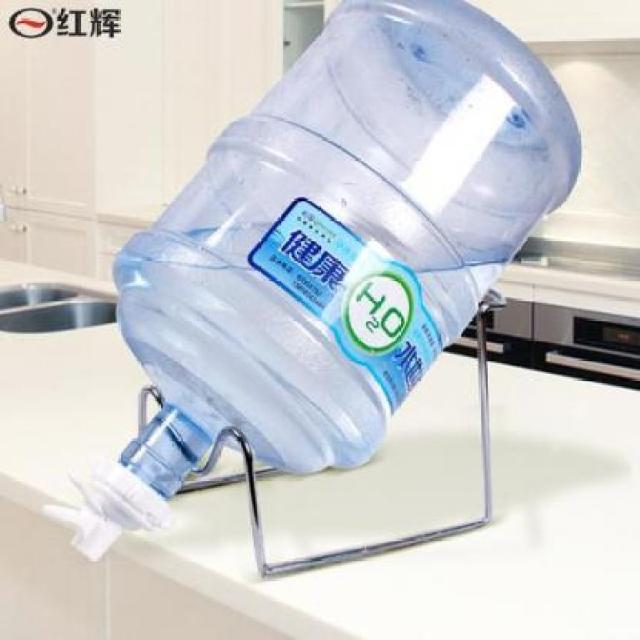coolerbottle: (102, 0, 588, 500)
